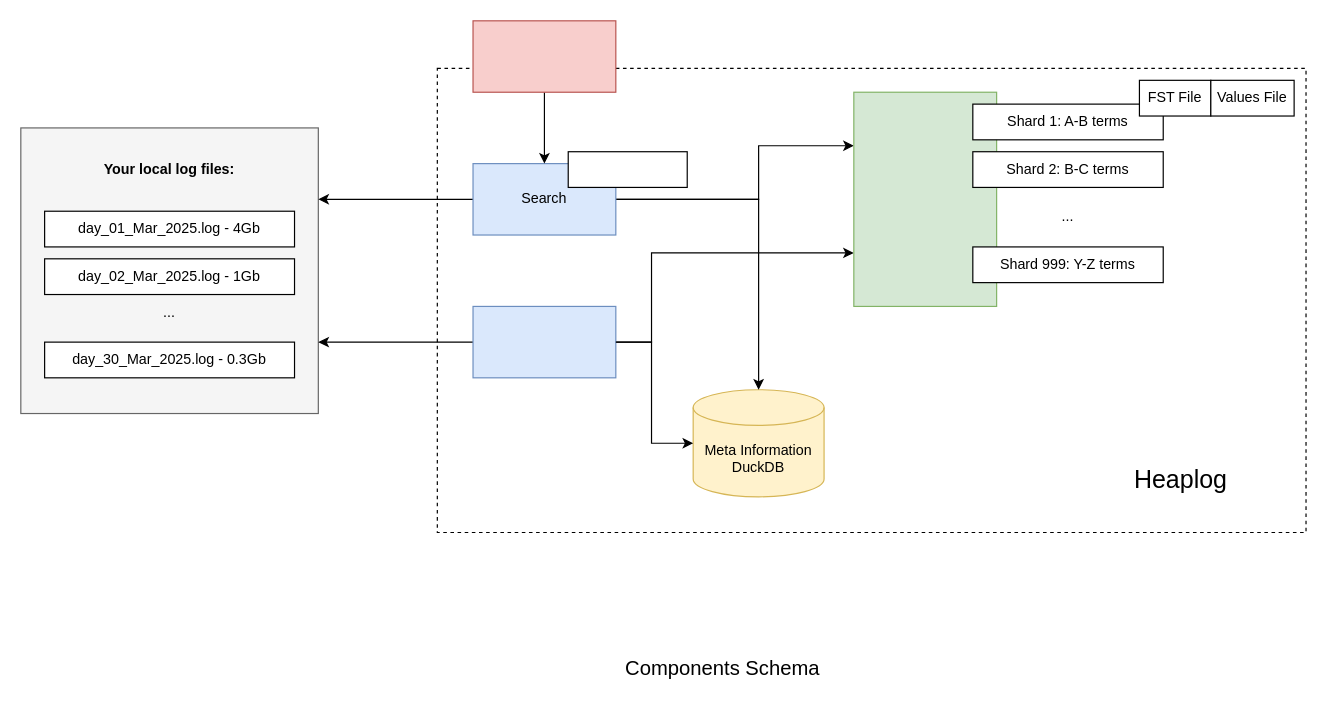
Some shapes in this 1327 by 708 pixel diagram are drawn without their labels. The shapes that lost their labels are listed below. From the top down, each one's centre as x and y in pixels, then its label:
[544,56]: WebUI
[627,169]: Query Parser
[925,198]: Inverted Index
[544,341]: Ingestor
